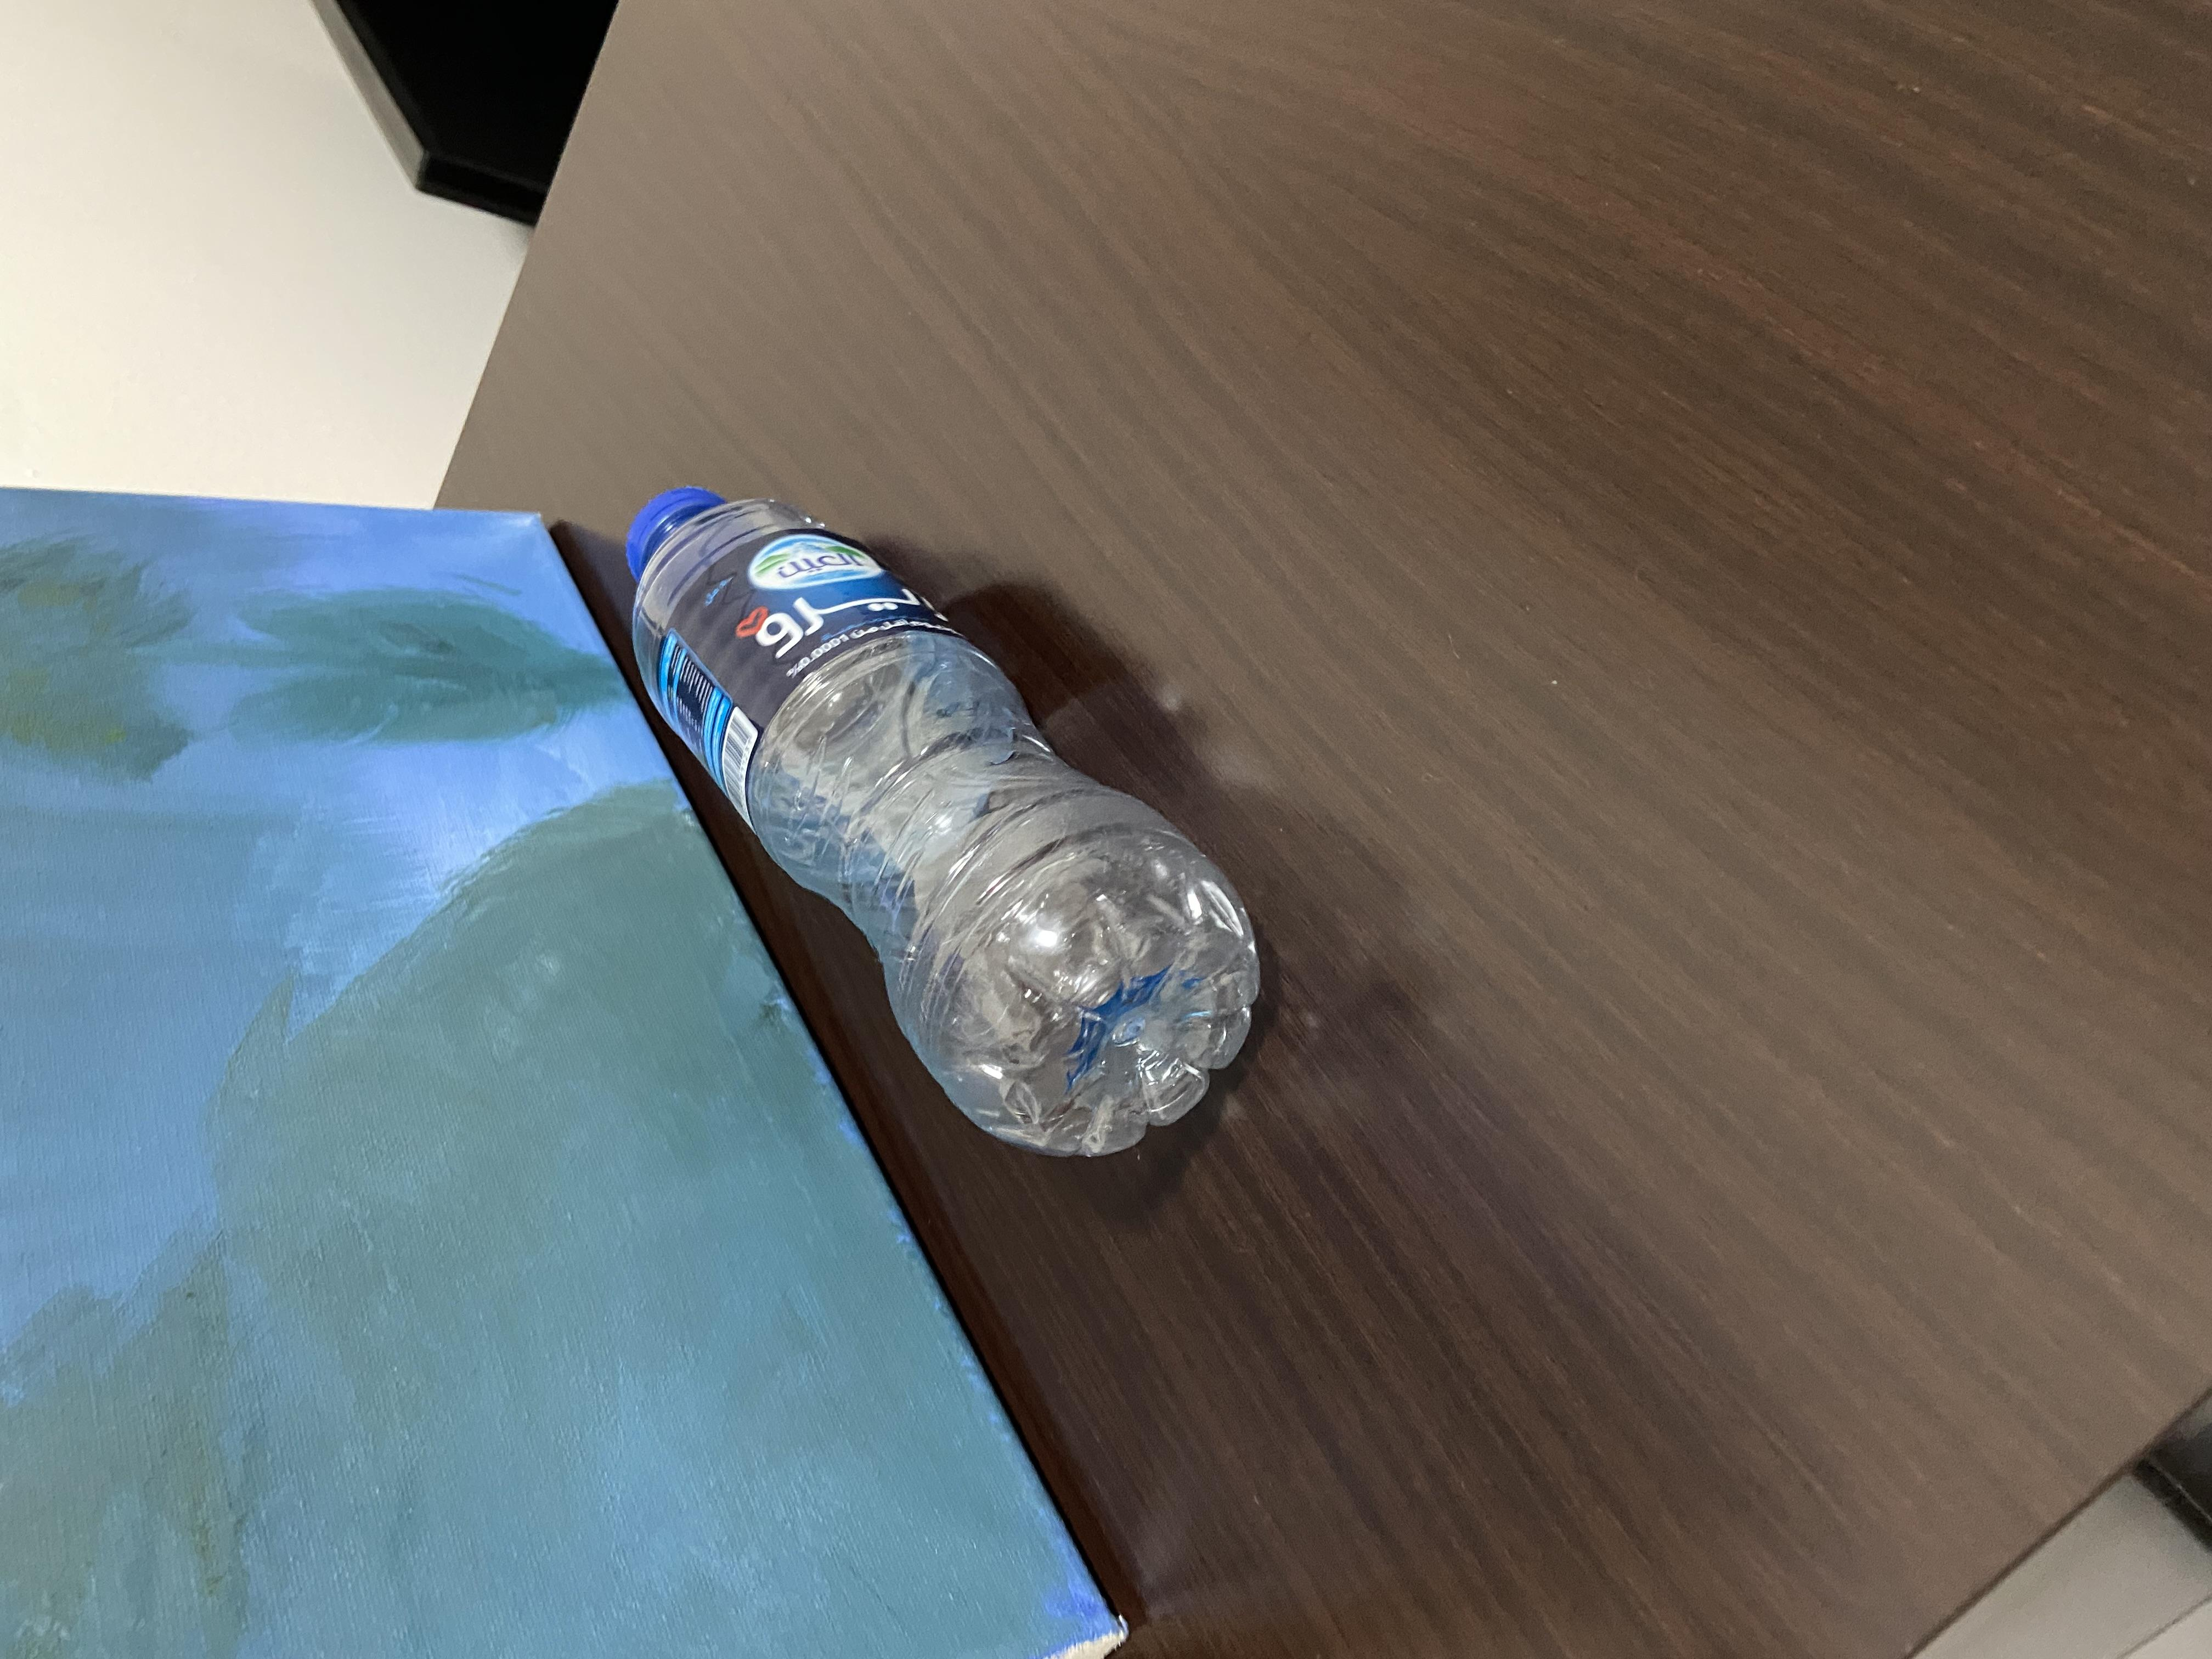bottle: (597, 413, 1662, 1012)
